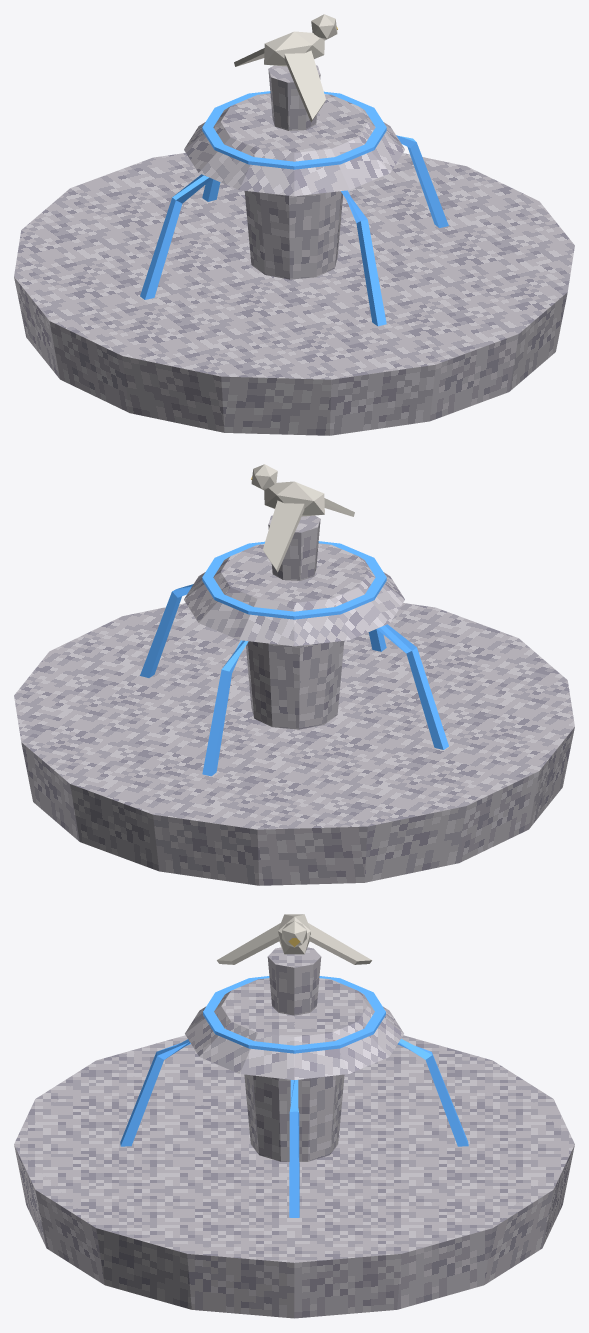
File: fountain.glb
The picture shows the model from 3 angles, top to bottom: view 1: azimuth 30°, elevation 25°; view 2: azimuth 150°, elevation 25°; view 3: azimuth 270°, elevation 25°; orthographic projection.
Parts seen in each view (by area): view 1: fountain; view 2: fountain; view 3: fountain.
Part boxes in pixels (x1,y1,x2,y2): fountain: [14, 14, 574, 435]; fountain: [14, 464, 574, 885]; fountain: [14, 914, 574, 1318].
Size of the model in its own units: 4.6 by 2.7 by 4.6.
4 materials, 1 textured.
